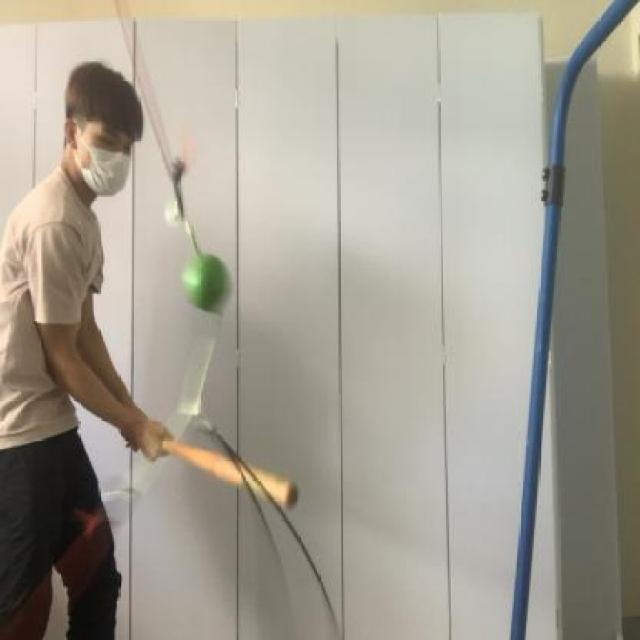baseball: (177, 241, 232, 314)
